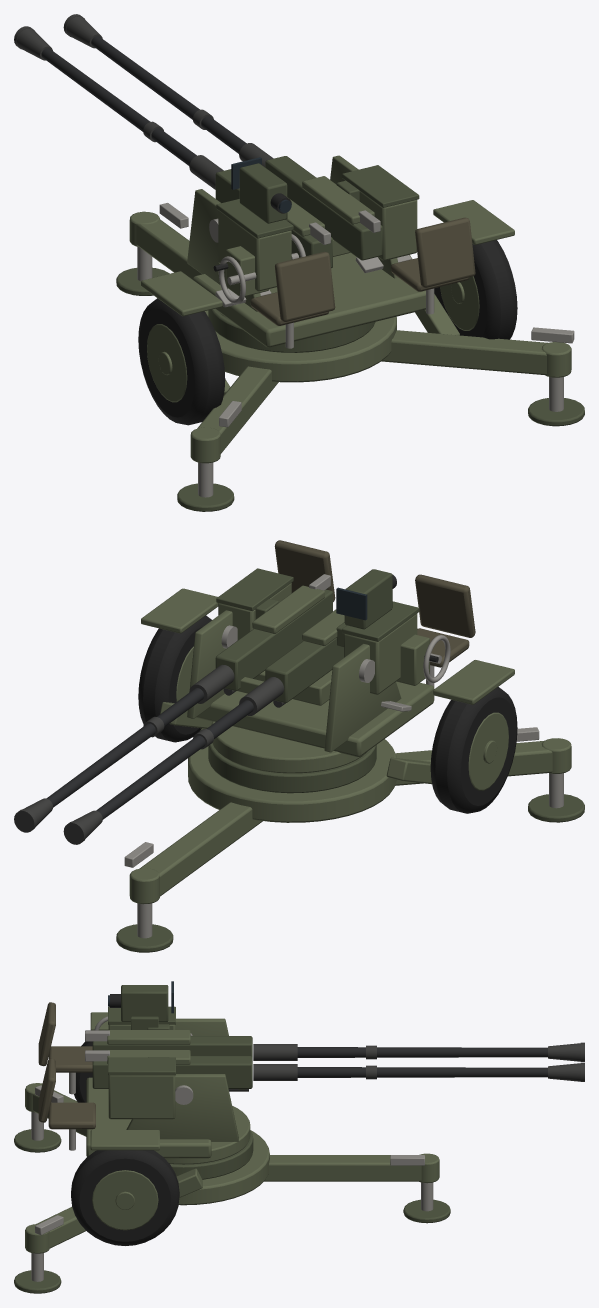
3 renders of one model, top to bottom at view 1: azimuth 30°, elevation 25°; view 2: azimuth 150°, elevation 25°; view 3: azimuth 270°, elevation 25°, orthographic. The views are drawn at different scales.
Visible parts, largest first — view 1: Cube.010, Cylinder.011, Cylinder.009, Cube.004, Cylinder.014, Cube.015, Cube.012, Cube.025, Cube.022, Cube.002, prism, Cylinder.010 (+26 smaller); view 2: Cylinder.009, Cube.010, Cylinder.011, Cylinder.017, Cube, Cylinder.014, prism, Cube.025, Cylinder.010, Cube.012, Cube.019, Cone (+28 smaller); view 3: Cylinder.014, prism.001, Cube, Cube.028, Cylinder.015, Cone, Cone.002, Cylinder.009, Cube.010, Cube.025, Cube.019, Cube.032 (+24 smaller).
Boxes of the visible parts, bbox=[...] form: Cube.010: bbox=[193, 252, 425, 347]; Cylinder.011: bbox=[138, 298, 225, 425]; Cylinder.009: bbox=[205, 310, 396, 382]; Cube.004: bbox=[381, 330, 547, 375]; Cylinder.014: bbox=[434, 240, 517, 339]; Cube.015: bbox=[415, 217, 475, 287]; Cube.012: bbox=[274, 251, 335, 321]; Cube.025: bbox=[265, 156, 382, 260]; Cube.022: bbox=[218, 210, 291, 291]; Cube.002: bbox=[197, 366, 278, 453]; prism: bbox=[187, 189, 260, 311]; Cylinder.010: bbox=[208, 309, 375, 352]; Cylinder.009: bbox=[188, 739, 396, 822]; Cube.010: bbox=[196, 681, 434, 756]; Cylinder.011: bbox=[430, 687, 517, 813]; Cylinder.017: bbox=[211, 721, 366, 773]; Cube: bbox=[139, 802, 262, 896]; Cylinder.014: bbox=[138, 615, 211, 742]; prism: bbox=[324, 644, 401, 752]; Cube.025: bbox=[215, 589, 332, 690]; Cylinder.010: bbox=[208, 743, 376, 793]; Cube.012: bbox=[415, 574, 475, 637]; Cube.019: bbox=[265, 638, 343, 702]; Cone: bbox=[96, 700, 253, 819]; Cylinder.014: bbox=[71, 1150, 179, 1245]; prism.001: bbox=[126, 1074, 238, 1141]; Cube: bbox=[264, 1155, 421, 1181]; Cube.028: bbox=[108, 1075, 175, 1119]; Cylinder.015: bbox=[92, 1170, 158, 1230]; Cone: bbox=[297, 1047, 547, 1057]; Cone.002: bbox=[297, 1067, 547, 1077]; Cylinder.009: bbox=[178, 1130, 269, 1205]; Cube.010: bbox=[86, 1077, 211, 1158]; Cube.025: bbox=[92, 1056, 252, 1088]; Cube.019: bbox=[92, 1036, 252, 1057]; Cube.032: bbox=[121, 985, 168, 1021].
Bounding box in the file's own units: 2.74 × 1.64 × 4.1.
